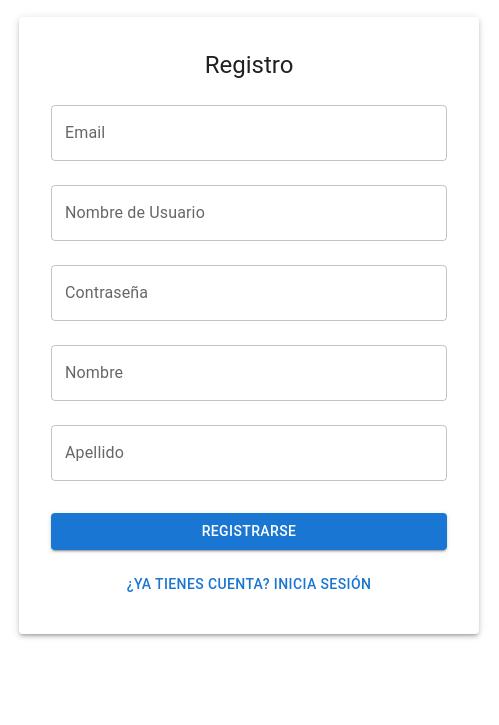
Test: Register Page › should show validation errors for empty fields
The width and height of the screenshot is (499, 725).
Click the submit button.
click(249, 532)  # box [51,513,447,550]
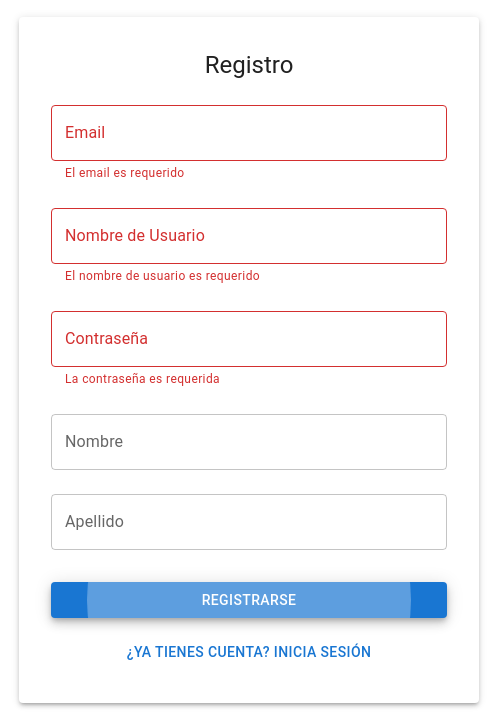
Now the text "El nombre de usuario es requerido" is shown, box [65,269,260,283]
Now the text "El email es requerido" is shown, box [65,166,185,180]
Now the text "La contraseña es requerida" is shown, box [65,372,220,386]
